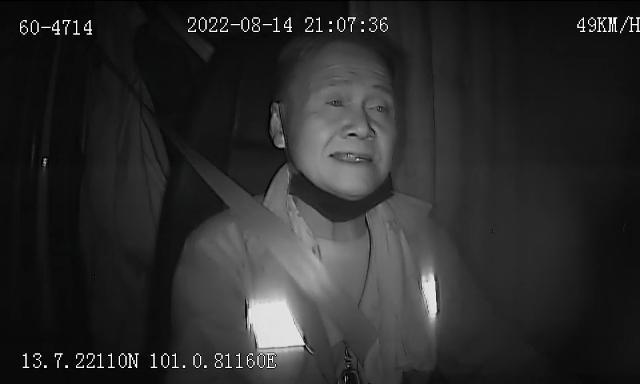SafeDriving: (360, 90, 396, 123), (318, 88, 352, 116)
Seatbelt: (174, 126, 376, 342)
